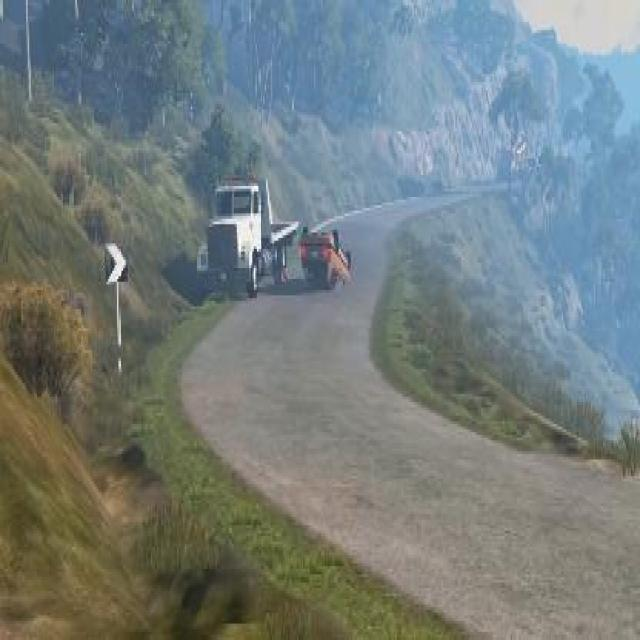accident: (296, 211, 352, 290)
